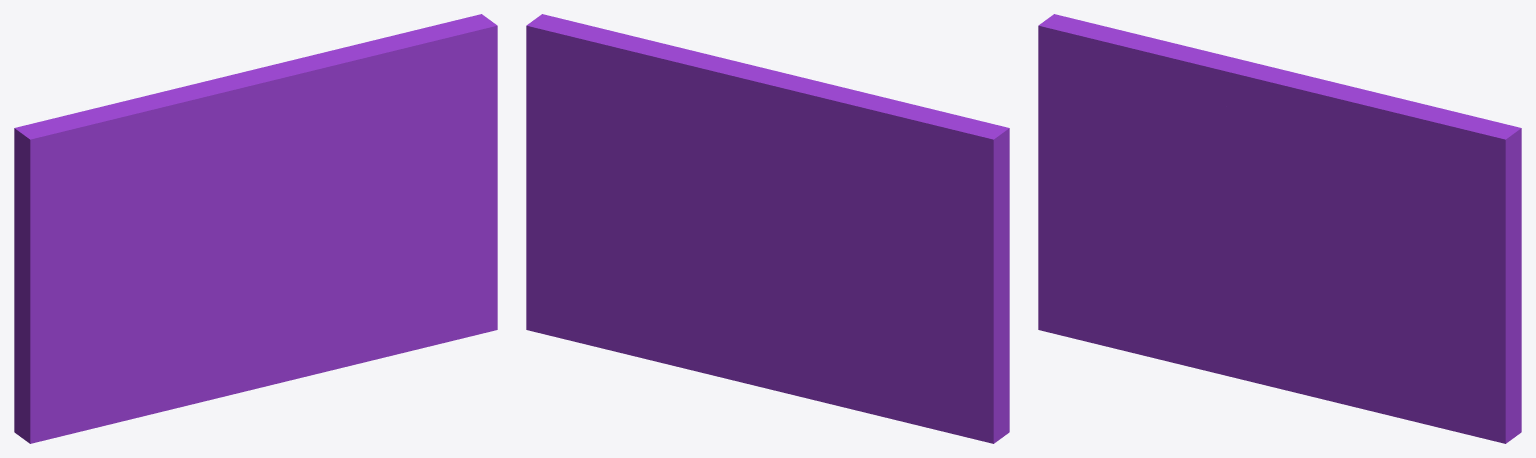
File: Barrier_89_chunks.fbx
3 views of the same model, side by side, from view 1: azimuth 30°, elevation 25°; view 2: azimuth 150°, elevation 25°; view 3: azimuth 330°, elevation 25° (orthographic).
Visible parts, largest first — view 1: Barrier_89_0, Barrier_89_2, Barrier_89_5, Barrier_89_4, Barrier_89_1, Barrier_89_3, Barrier_89_6; view 2: Barrier_89_0, Barrier_89_2, Barrier_89_4, Barrier_89_5, Barrier_89_6; view 3: Barrier_89_0, Barrier_89_2, Barrier_89_5, Barrier_89_4, Barrier_89_1, Barrier_89_3, Barrier_89_6.
Boxes of the visible parts, left/top/right/bottom form: Barrier_89_0: left=14, top=75, right=240, bottom=443; Barrier_89_2: left=230, top=14, right=497, bottom=285; Barrier_89_5: left=331, top=258, right=497, bottom=368; Barrier_89_4: left=74, top=273, right=278, bottom=433; Barrier_89_1: left=212, top=79, right=286, bottom=253; Barrier_89_3: left=192, top=298, right=336, bottom=404; Barrier_89_6: left=223, top=235, right=381, bottom=301; Barrier_89_0: left=759, top=83, right=1009, bottom=443; Barrier_89_2: left=526, top=14, right=783, bottom=295; Barrier_89_4: left=697, top=259, right=934, bottom=429; Barrier_89_5: left=526, top=264, right=708, bottom=373; Barrier_89_6: left=660, top=240, right=776, bottom=295; Barrier_89_0: left=1038, top=14, right=1269, bottom=340; Barrier_89_2: left=1264, top=66, right=1521, bottom=399; Barrier_89_5: left=1340, top=316, right=1521, bottom=443; Barrier_89_4: left=1082, top=253, right=1286, bottom=369; Barrier_89_1: left=1220, top=70, right=1294, bottom=246; Barrier_89_3: left=1200, top=306, right=1344, bottom=404; Barrier_89_6: left=1231, top=242, right=1389, bottom=334.
Size of the model in its own units: 462 by 288 by 27.2.
